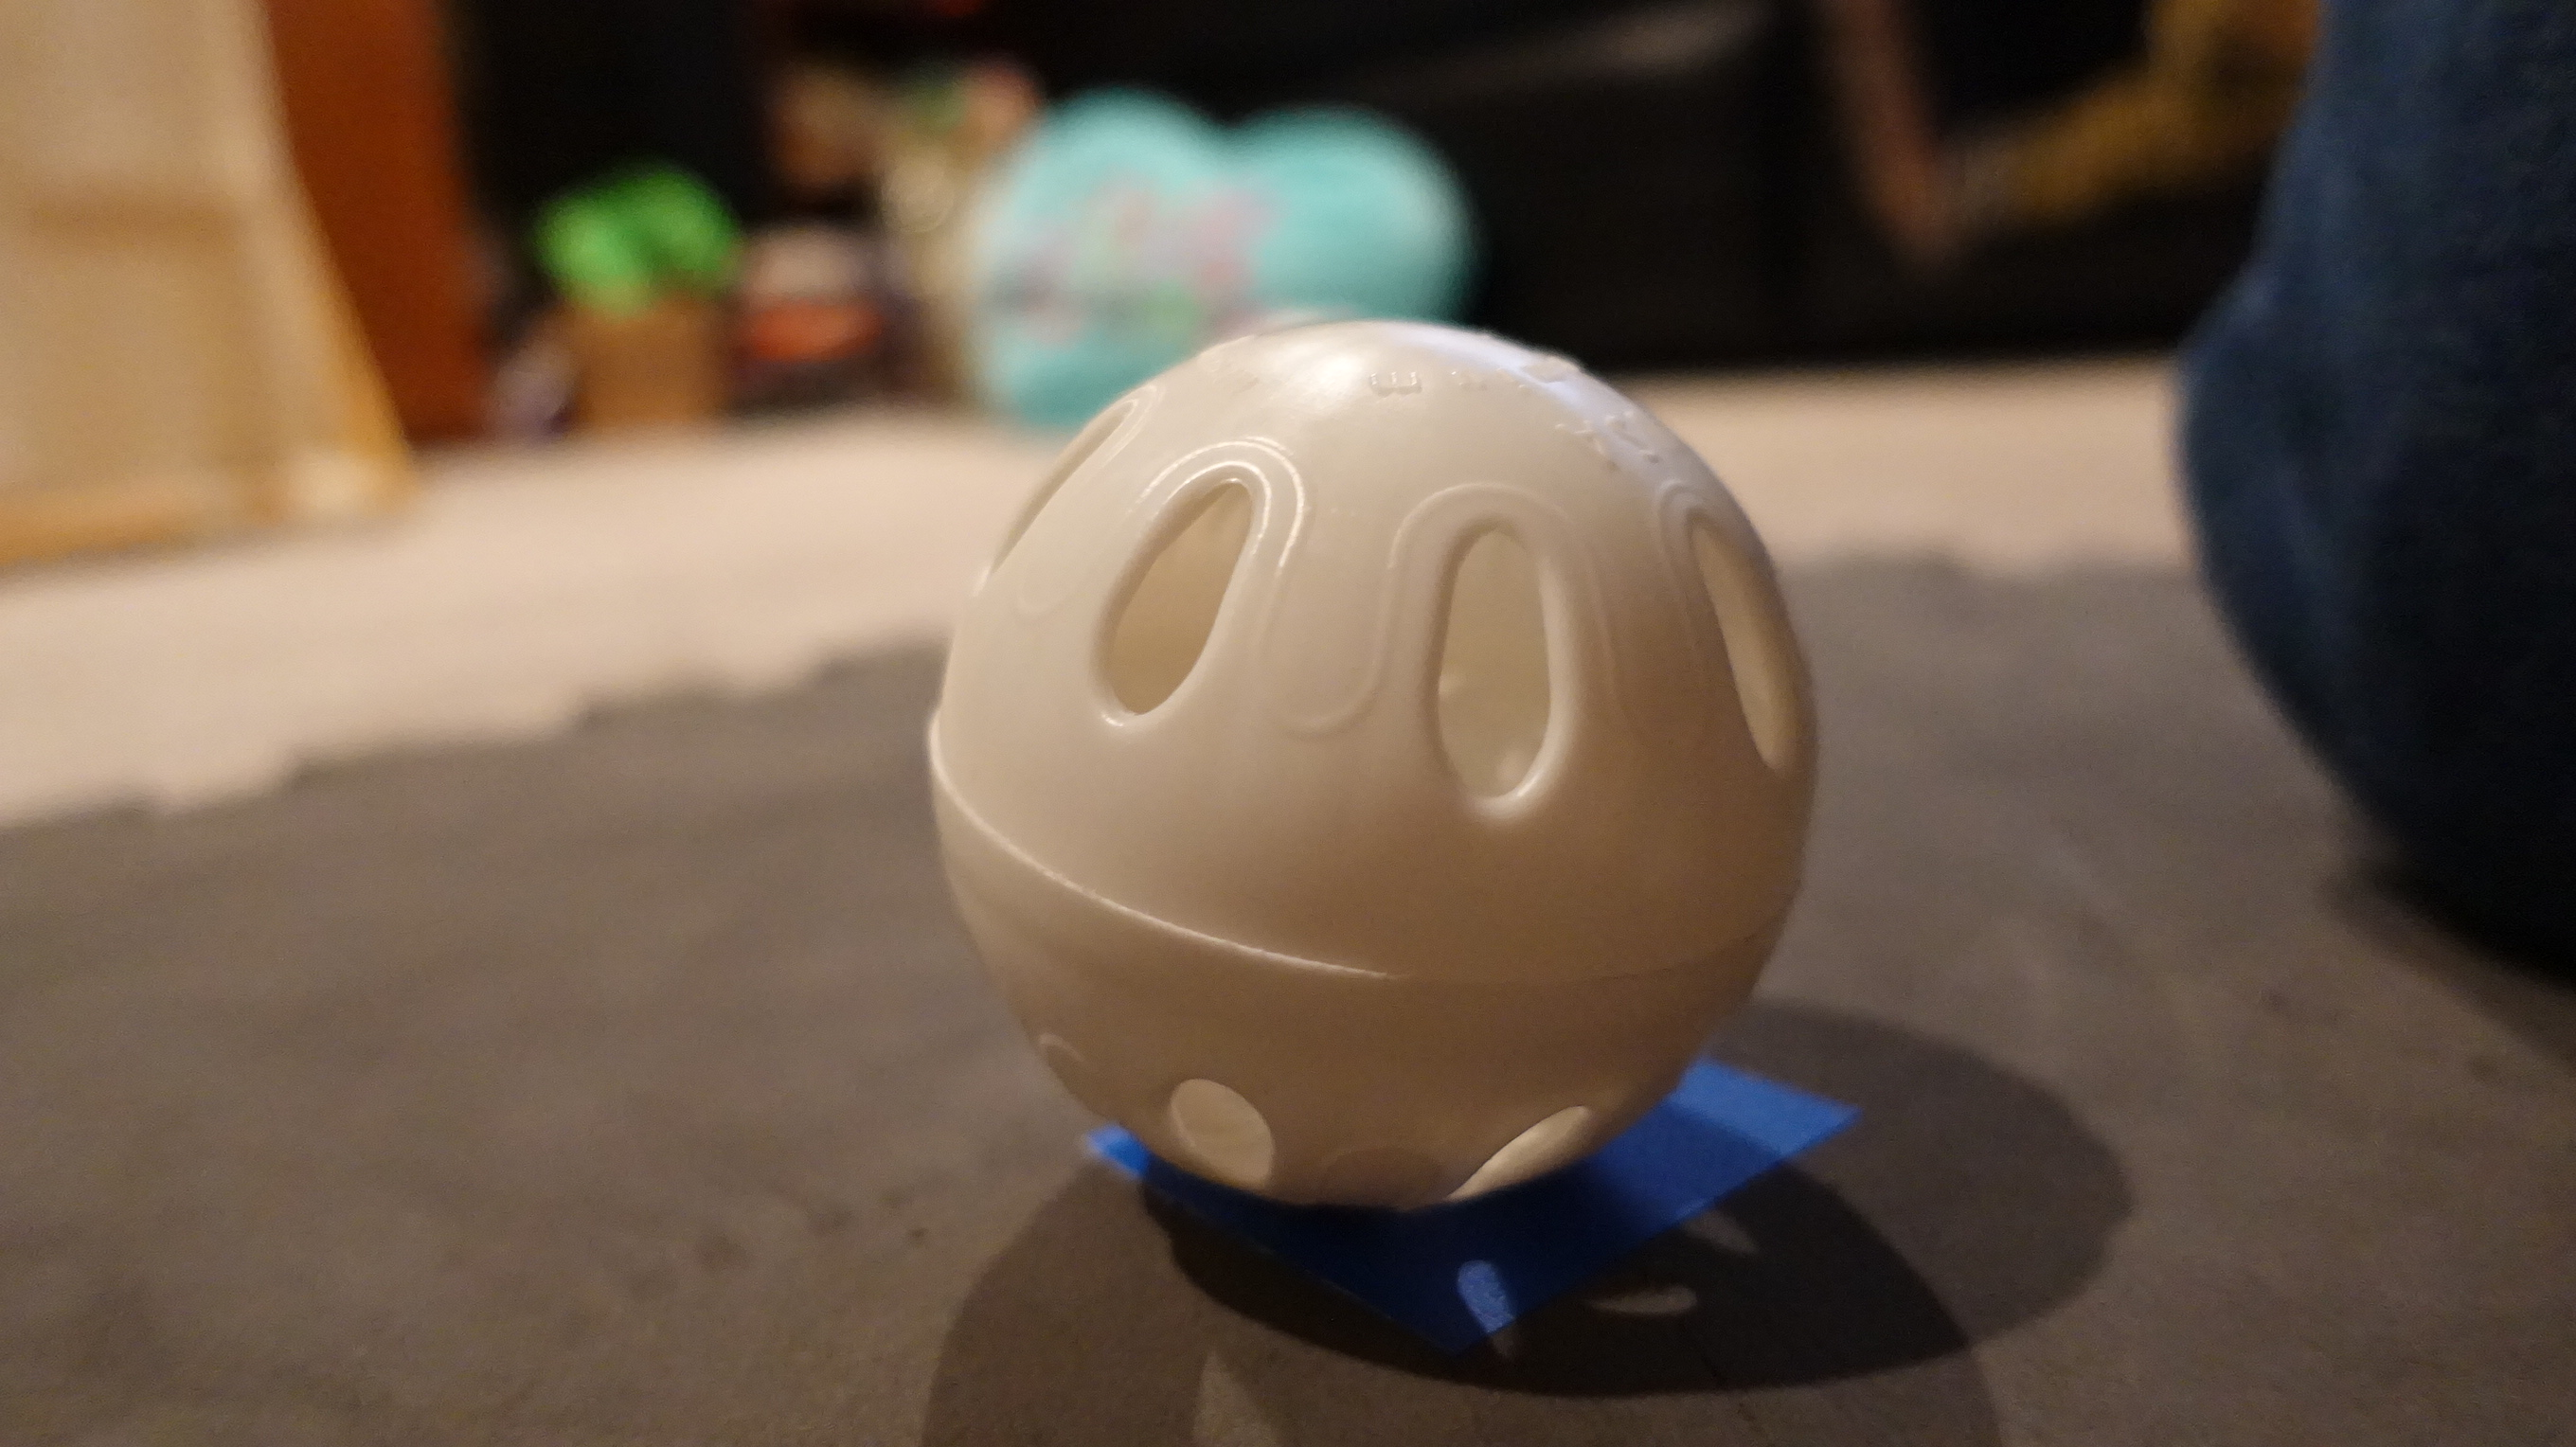silver: (902, 304, 1836, 1238)
